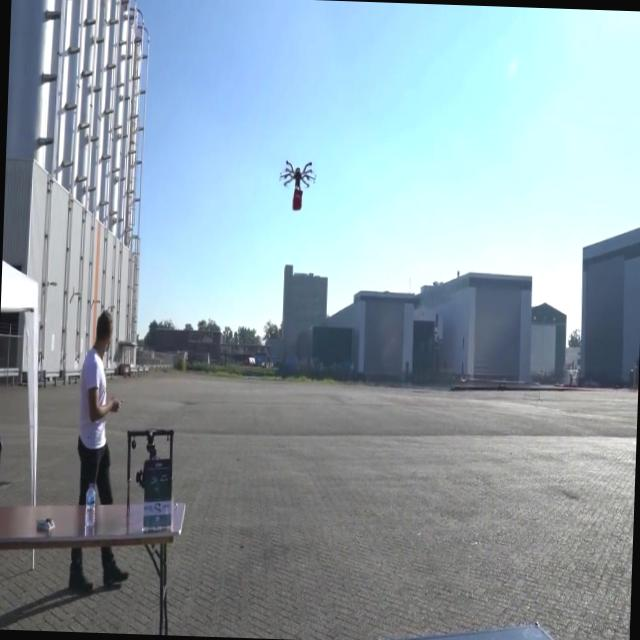drone: (275, 158, 318, 212)
